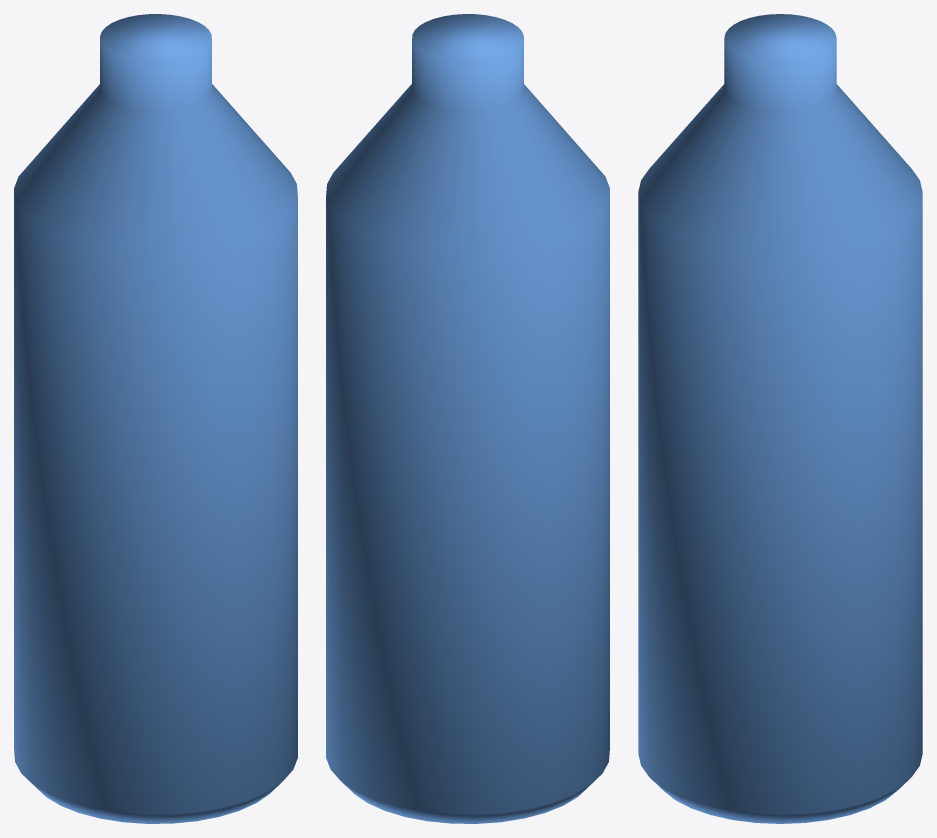
Rendered from déchets.fbx.
The picture shows the model from 3 angles, left to right: view 1: azimuth 30°, elevation 25°; view 2: azimuth 150°, elevation 25°; view 3: azimuth 270°, elevation 25°; orthographic projection.
Visible parts, largest first — view 1: 01 Déchet 01; view 2: 01 Déchet 01; view 3: 01 Déchet 01.
Boxes of the visible parts, x1,y1,x2,y2 form: 01 Déchet 01: [14, 14, 297, 823]; 01 Déchet 01: [326, 14, 609, 823]; 01 Déchet 01: [638, 14, 922, 823].
Size of the model in its own units: 2 by 5.69 by 2.
